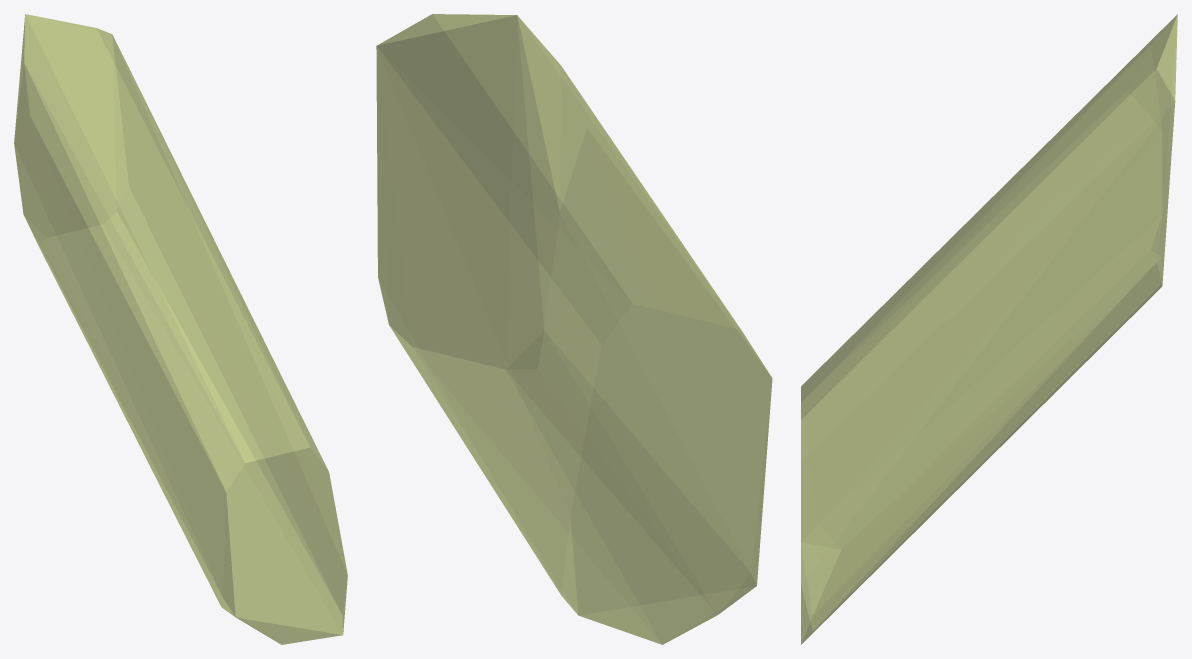
3 views of the same model, side by side, from view 1: azimuth 30°, elevation 25°; view 2: azimuth 150°, elevation 25°; view 3: azimuth 270°, elevation 25° (orthographic). The views are drawn at different scales.
Visible parts, largest first — view 1: Shape_IndexedFaceSet.002_Shape_IndexedFaceSet.16453; view 2: Shape_IndexedFaceSet.002_Shape_IndexedFaceSet.16453; view 3: Shape_IndexedFaceSet.002_Shape_IndexedFaceSet.16453.
Part boxes in pixels (left/top/right/bottom): Shape_IndexedFaceSet.002_Shape_IndexedFaceSet.16453: left=14, top=14, right=347, bottom=644; Shape_IndexedFaceSet.002_Shape_IndexedFaceSet.16453: left=376, top=14, right=772, bottom=644; Shape_IndexedFaceSet.002_Shape_IndexedFaceSet.16453: left=801, top=14, right=1177, bottom=644.
Bounding box in the file's own units: 0.0798 × 0.2449 × 0.1498.
